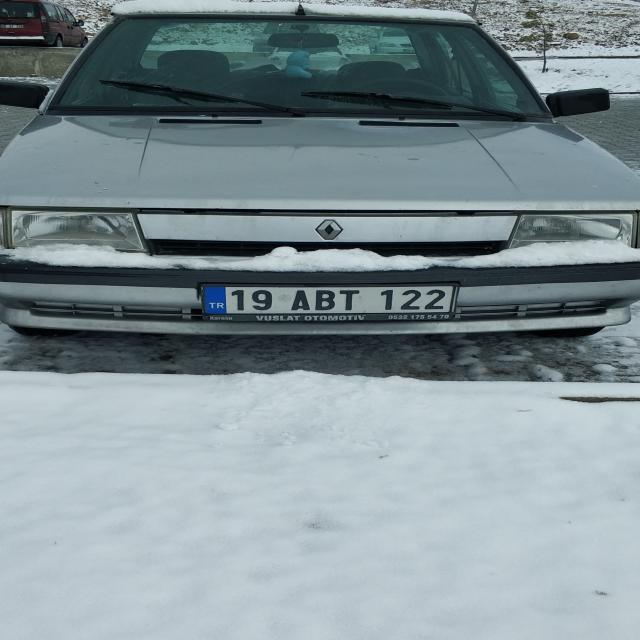license_plate: (202, 286, 455, 314)
